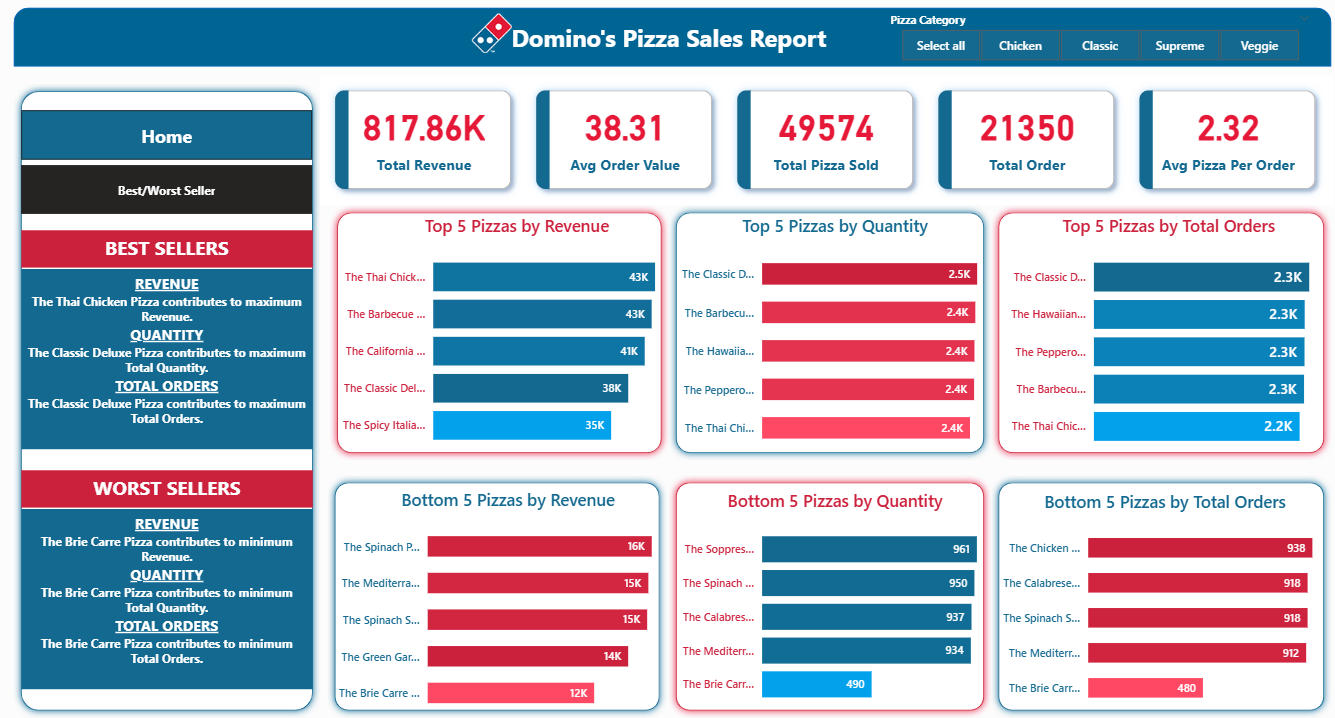

This screenshot's page, from the dashboard's own definition file:
{"tool":"powerbi","page":{"name":"Best/Worst Seller","canvas":[1500,820],"ordinal":1},"visuals":[{"type":"cardVisual","fields":{"Data":["pizza_sales.Total Revenue","pizza_sales.Avg Order Value","pizza_sales.Total Pizza Sold","pizza_sales.Total Order","pizza_sales.Avg Pizza Per Order"]},"box":[362.1,90.5,1129.5,144.8],"z":0},{"type":"shape","box":[20.9,15.3,1467.9,65.5],"z":1000},{"type":"textbox","box":[540.4,25.1,420.6,47.4],"z":2000},{"type":"image","box":[526.4,15.3,55.7,57.1],"z":3000},{"type":"shape","box":[750.6,536.2,359.3,270.2],"z":4000},{"type":"shape","box":[1110,536.2,378.8,270.2],"z":5000},{"type":"shape","box":[370.5,536.2,378,270.2],"z":6000},{"type":"shape","box":[20.9,100.3,341.2,706.1],"z":7000},{"type":"textbox","box":[29.2,263.2,324.5,41.8],"z":8000},{"type":"textbox","box":[29.2,306.4,324.5,200.5],"z":9000},{"type":"textbox","box":[29.2,573.8,324.5,200.5],"z":10000},{"type":"textbox","box":[29.2,530.6,324.5,41.8],"z":11000},{"type":"slicer","fields":{"Values":["pizza_sales.pizza_category"]},"box":[984.6,15.3,491.6,65.5],"z":12000},{"type":"shape","box":[373.2,235.4,377.4,284.1],"z":13000},{"type":"shape","box":[750.6,235.4,359.3,284.1],"z":14000},{"type":"shape","box":[1110,235.4,378.8,284.1],"z":15000},{"type":"barChart","title":"Top 5 Pizzas by Revenue","fields":{"Category":["pizza_sales.pizza_name"],"Y":["pizza_sales.Total Revenue"]},"box":[370.5,245.1,422,274.4],"z":16000},{"type":"barChart","title":"Bottom 5 Pizzas by Revenue","fields":{"Category":["pizza_sales.pizza_name"],"Y":["pizza_sales.Total Revenue"]},"box":[366.3,550.1,410.8,263.2],"z":17000},{"type":"barChart","title":"Top 5 Pizzas by Quantity","fields":{"Category":["pizza_sales.pizza_name"],"Y":["pizza_sales.Total Pizza Sold"]},"box":[747.9,245.1,376,274.4],"z":18000},{"type":"barChart","title":"Bottom 5 Pizzas by Quantity","fields":{"Category":["pizza_sales.pizza_name"],"Y":["pizza_sales.Total Pizza Sold"]},"box":[747.9,551.5,376,253.5],"z":19000},{"type":"barChart","title":"Top 5 Pizzas by Total Orders","fields":{"Category":["pizza_sales.pizza_name"],"Y":["pizza_sales.Total Order"]},"box":[1115.5,245.1,384.4,275.7],"z":20000},{"type":"barChart","title":"Bottom 5 Pizzas by Total Orders","fields":{"Category":["pizza_sales.pizza_name"],"Y":["pizza_sales.Total Order"]},"box":[1107.2,552.9,392.7,253.5],"z":21000},{"type":"pageNavigator","box":[29.2,129.5,324.5,55],"z":21001},{"type":"pageNavigator","box":[29.2,190.8,324.5,54.3],"z":21002}]}

Visuals, with their boxes in screenshot pixels (x1, y1, x2, y2), scaled from the page's 1500x820 canvas onto the 1335x718 screenshot:
cardVisual - pizza_sales.Total Revenue x pizza_sales.Avg Order Value: 322 79 1328 206
shape: 19 13 1325 71
textbox: 481 22 855 63
image: 468 13 518 63
shape: 668 470 988 706
shape: 988 470 1325 706
shape: 330 470 666 706
shape: 19 88 322 706
textbox: 26 230 315 267
textbox: 26 268 315 444
textbox: 26 502 315 678
textbox: 26 465 315 501
slicer - pizza_sales.pizza_category: 876 13 1314 71
shape: 332 206 668 455
shape: 668 206 988 455
shape: 988 206 1325 455
"Top 5 Pizzas by Revenue" barChart: 330 215 705 455
"Bottom 5 Pizzas by Revenue" barChart: 326 482 692 712
"Top 5 Pizzas by Quantity" barChart: 666 215 1000 455
"Bottom 5 Pizzas by Quantity" barChart: 666 483 1000 705
"Top 5 Pizzas by Total Orders" barChart: 993 215 1334 456
"Bottom 5 Pizzas by Total Orders" barChart: 985 484 1334 706
pageNavigator: 26 113 315 162
pageNavigator: 26 167 315 215
